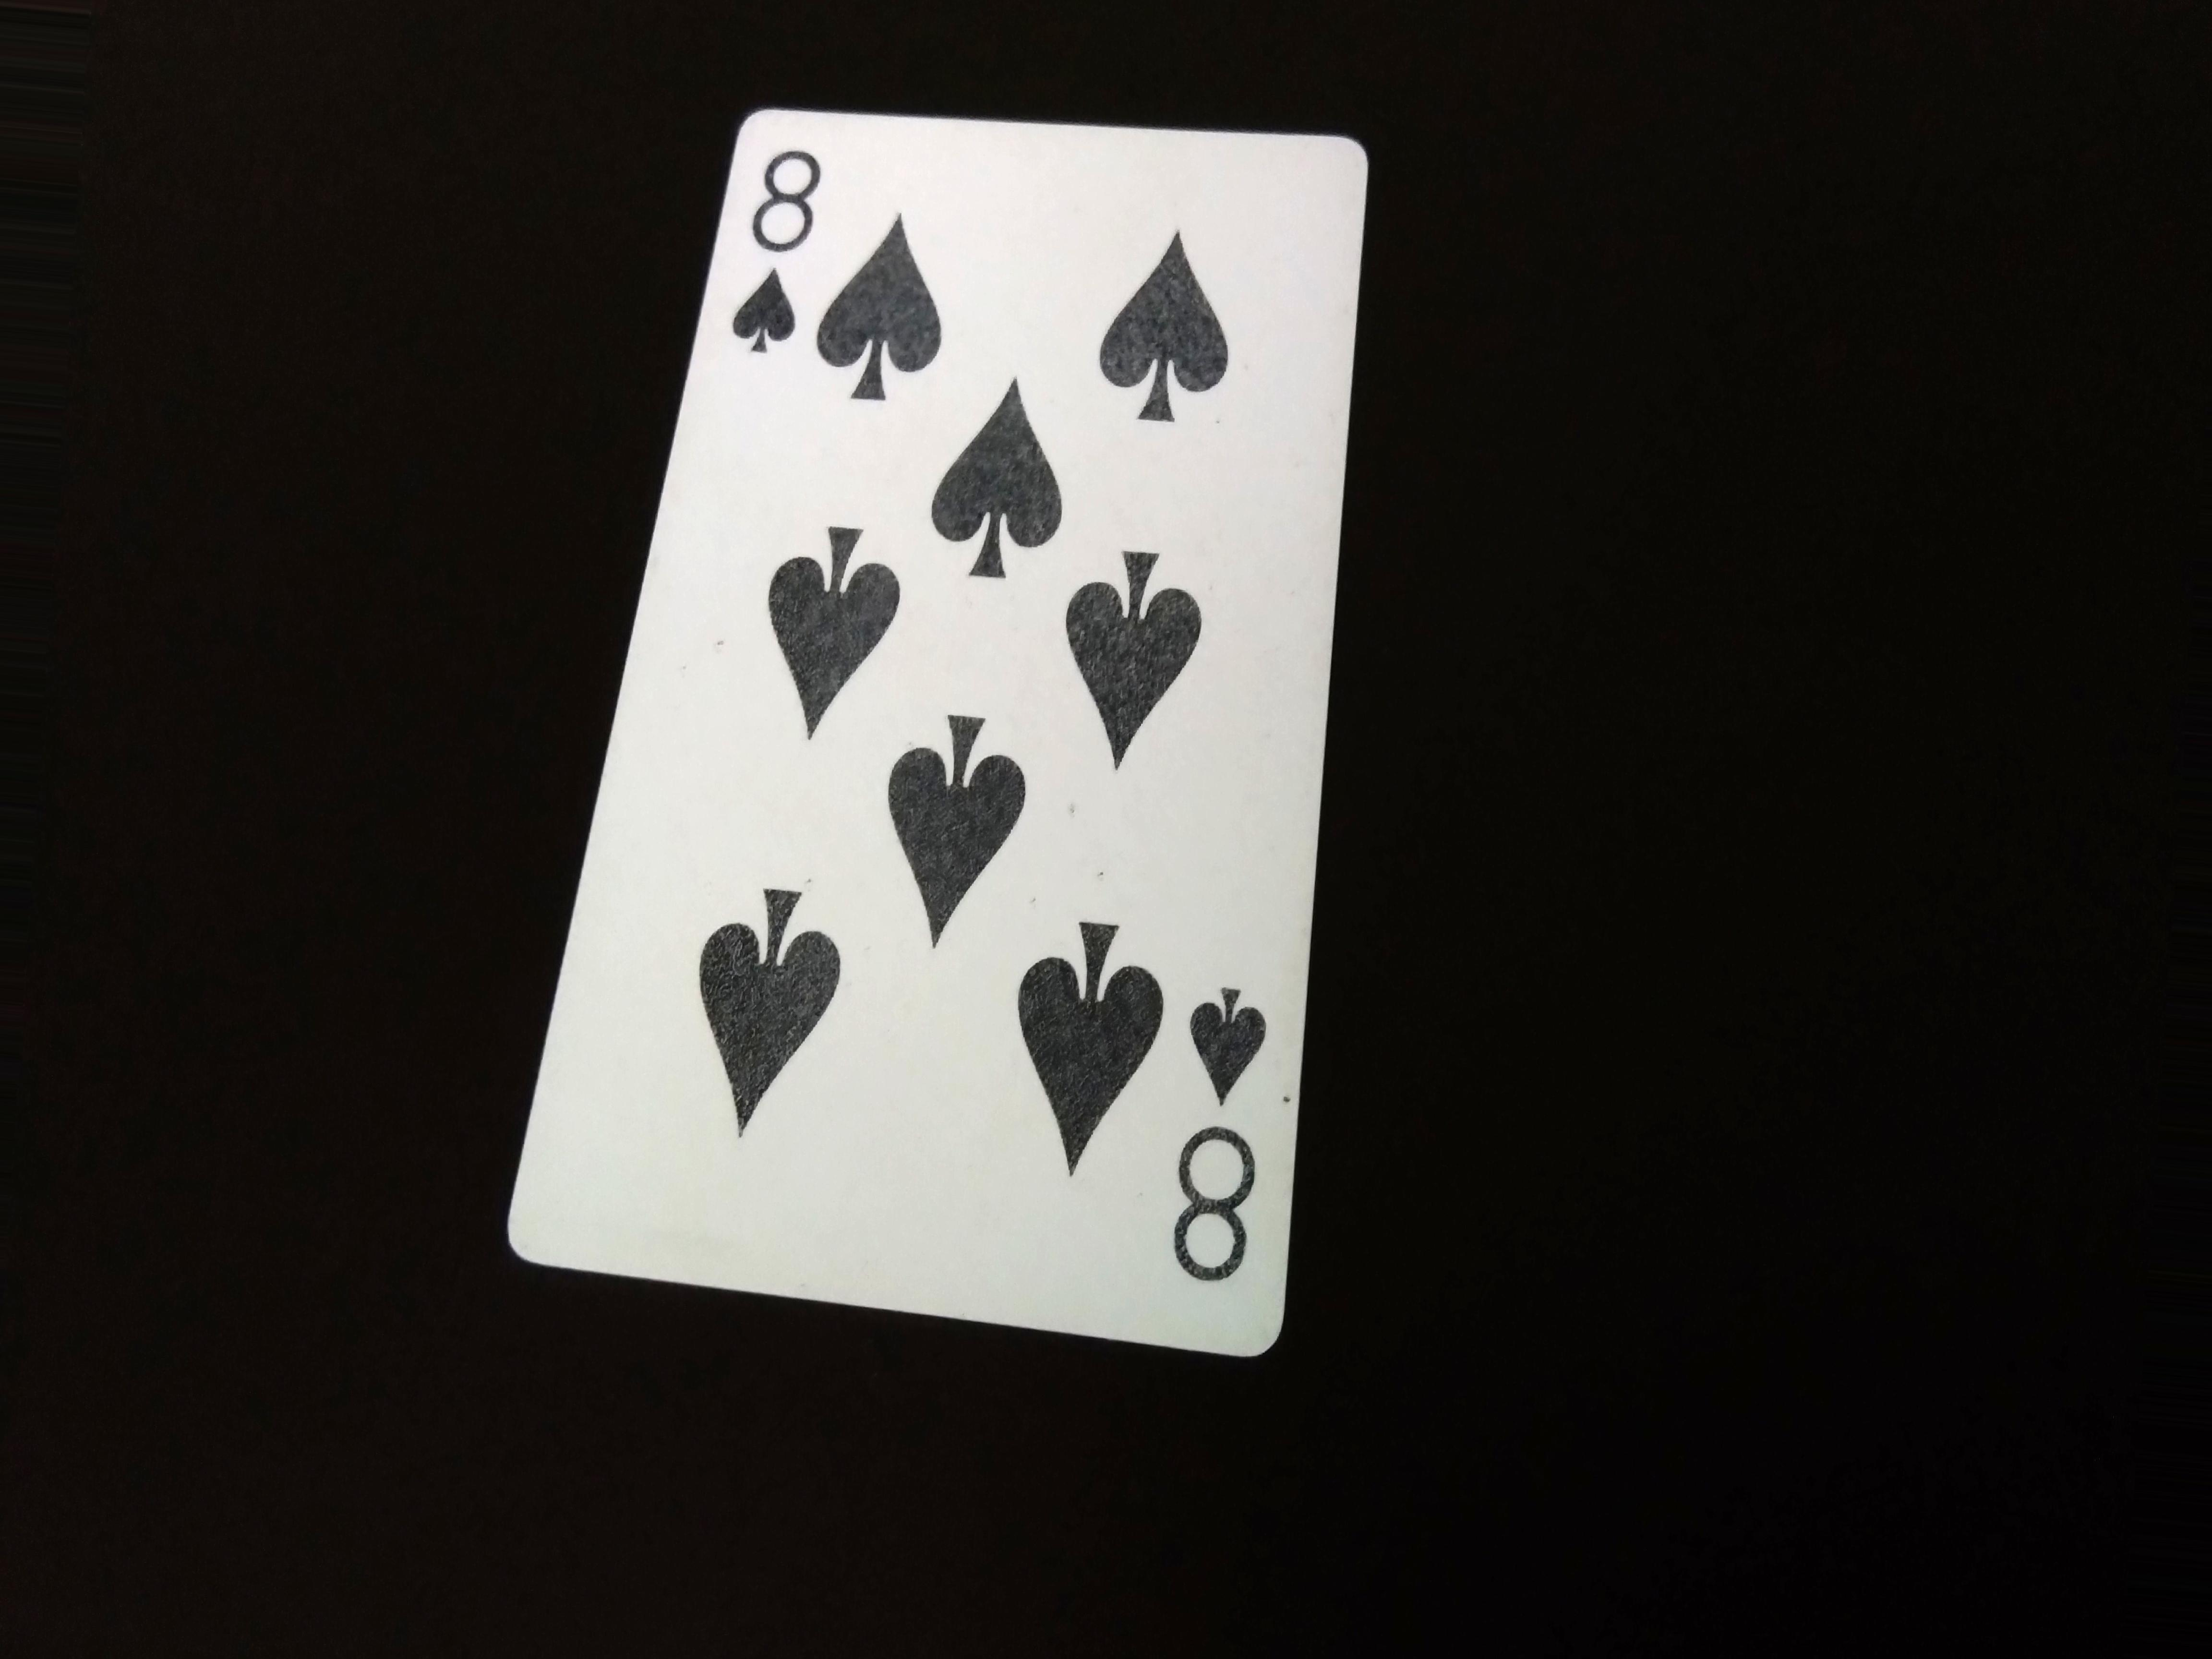8S: (716, 136, 852, 371)
